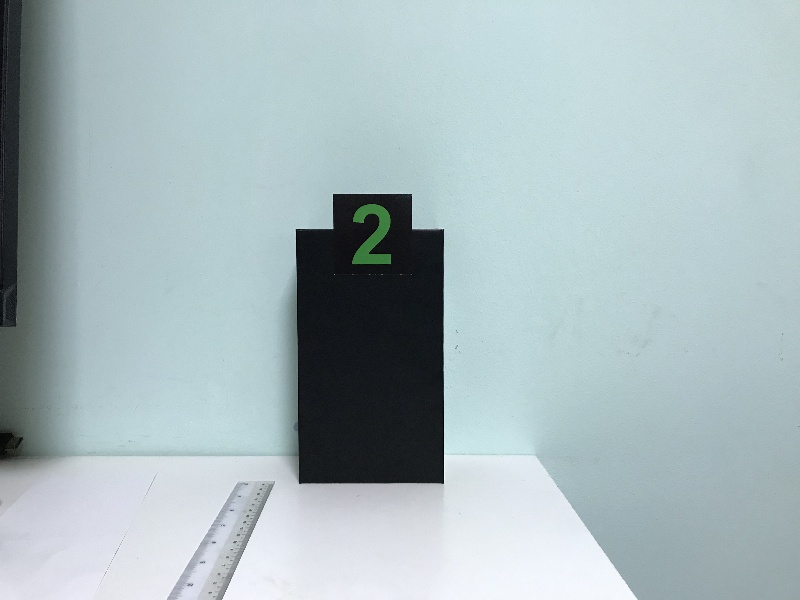Two-7: (336, 197, 410, 272)
